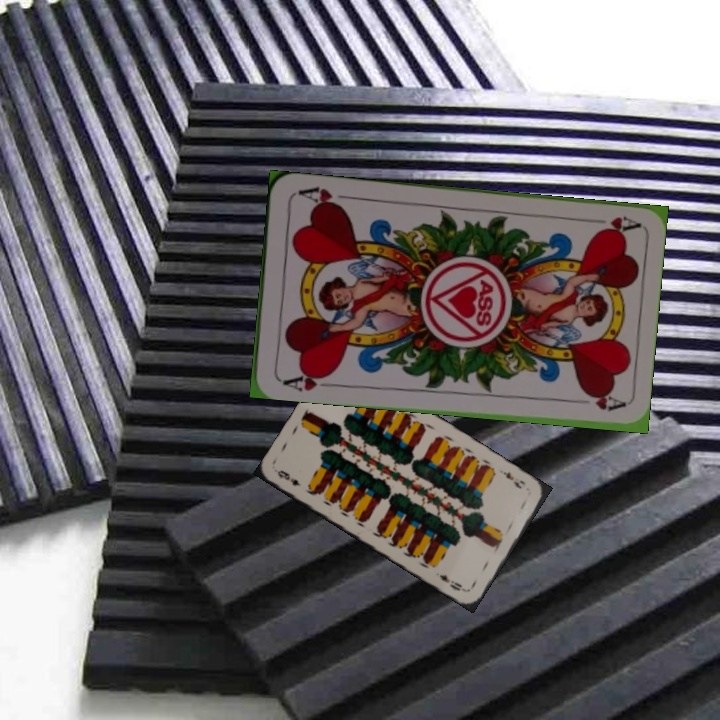E9: (273, 466, 304, 489), (499, 467, 528, 491)
HA: (275, 366, 335, 394), (581, 211, 640, 236)
